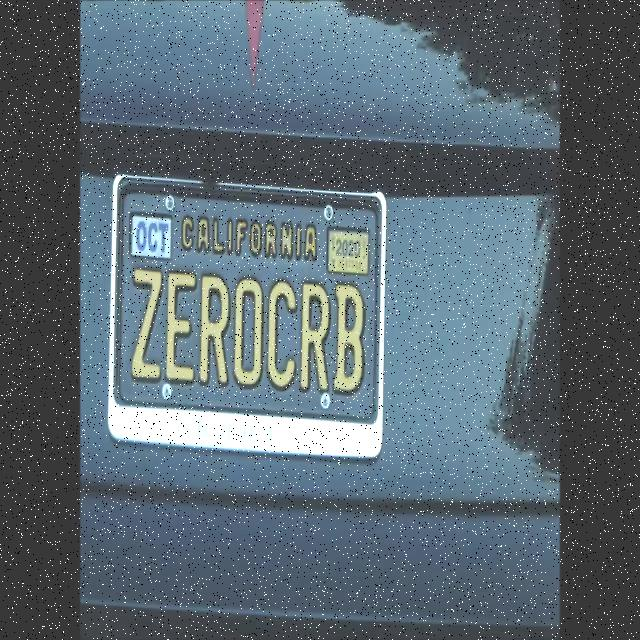licenseplate: (108, 175, 380, 456)
